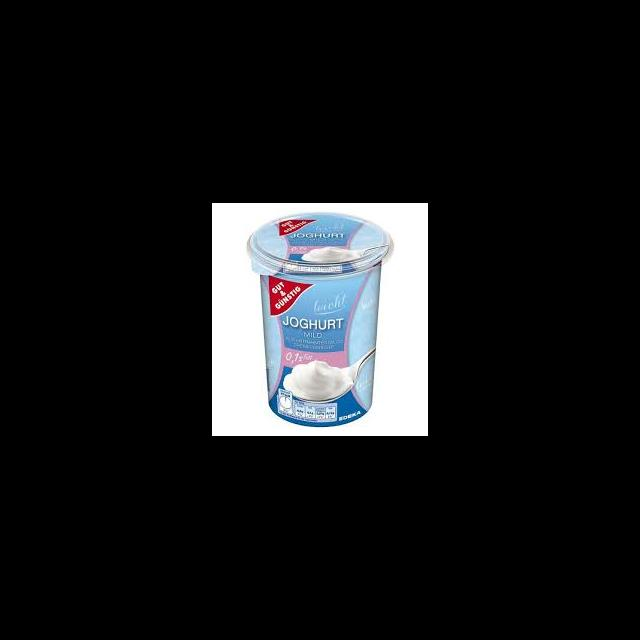plastic: (246, 212, 391, 424), (245, 210, 392, 276)
